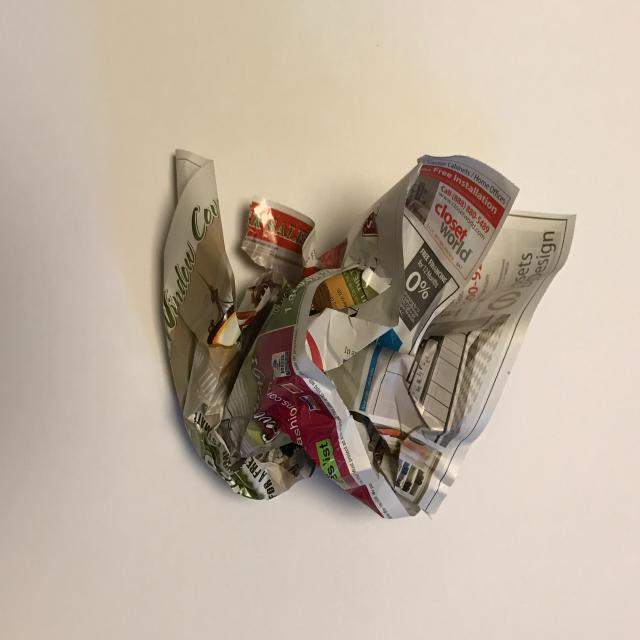paper: (2, 26, 636, 606)
